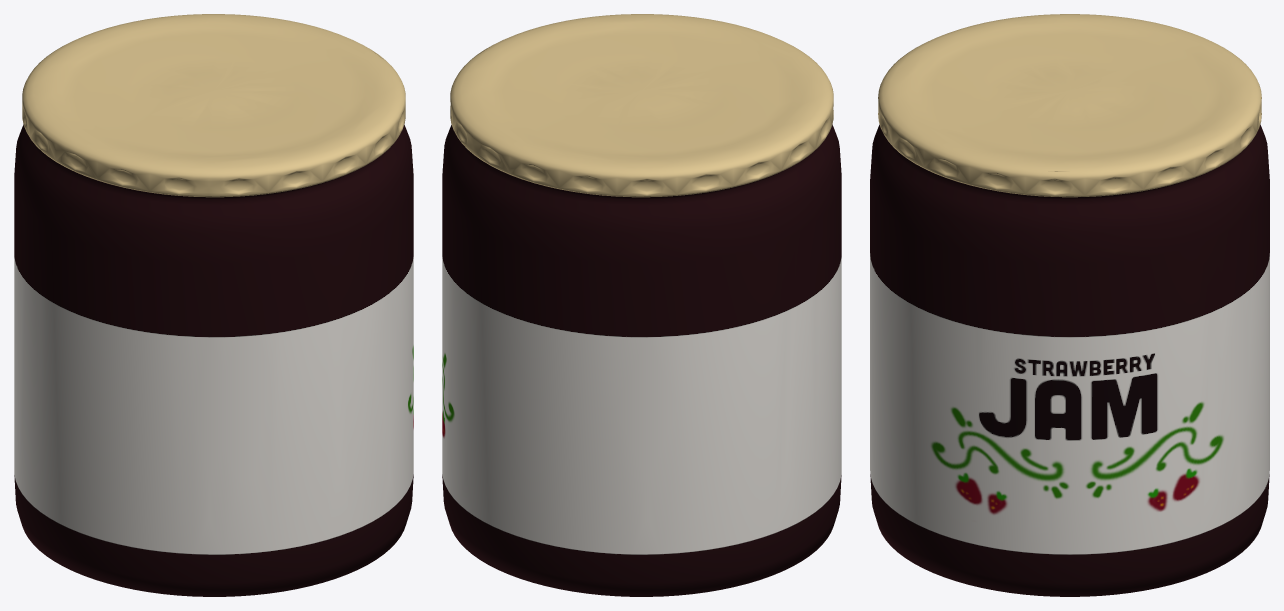
Rendered from 딸기잼 1.fbx.
The picture shows the model from 3 angles, left to right: view 1: azimuth 30°, elevation 25°; view 2: azimuth 150°, elevation 25°; view 3: azimuth 270°, elevation 25°; orthographic projection.
Visible parts, largest first — view 1: Cylinder001; view 2: Cylinder001; view 3: Cylinder001.
Boxes of the visible parts, x1,y1,x2,y2 form: Cylinder001: [14, 14, 413, 596]; Cylinder001: [442, 14, 841, 596]; Cylinder001: [870, 14, 1269, 596].
Size of the model in its own units: 39.88 by 47.67 by 39.88.
Materials: 1 (1 with a texture image).
